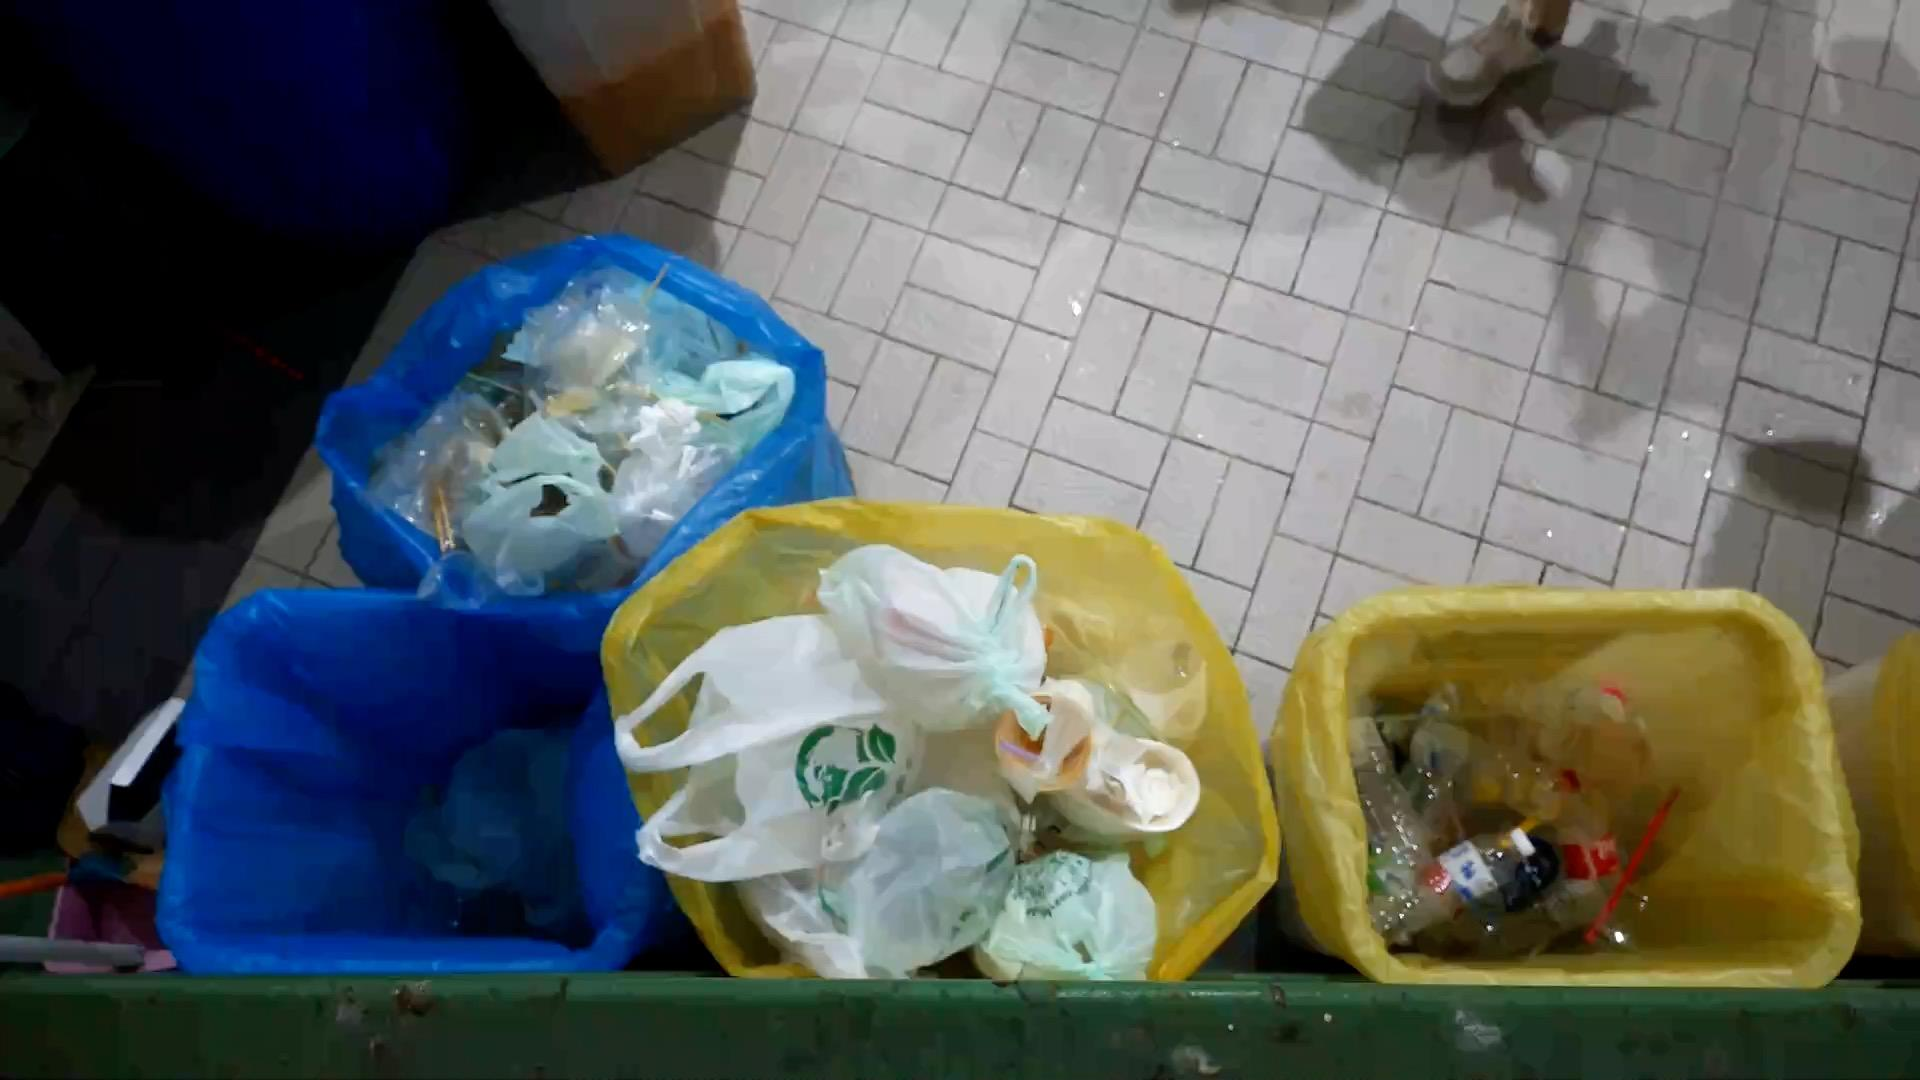filled plastic bag: (597, 605, 939, 899), (819, 733, 1021, 986), (819, 543, 1048, 733), (1002, 682, 1205, 857), (964, 832, 1159, 1006), (421, 691, 585, 893), (450, 385, 607, 583), (608, 430, 744, 562), (988, 680, 1098, 807)
plastic bag: (526, 274, 679, 431), (654, 342, 786, 462), (360, 396, 484, 514)
plastic bottle: (1385, 716, 1568, 825), (1369, 827, 1536, 942), (1350, 704, 1440, 870), (1474, 654, 1651, 735), (1549, 766, 1629, 926)
plastic cup: (1535, 707, 1689, 814), (1122, 625, 1222, 731)
sticks: (414, 463, 458, 535)
straw: (1584, 783, 1683, 943)
tissue paper: (624, 393, 700, 447)
